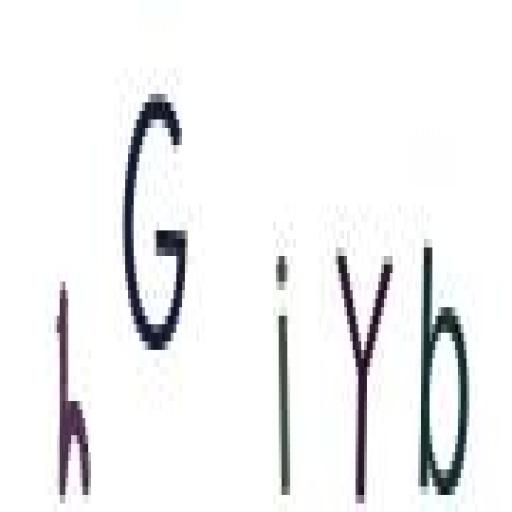G: (118, 78, 189, 378)
Y: (337, 232, 401, 512)
b: (418, 229, 477, 512)
h: (51, 266, 94, 511)
i: (266, 232, 301, 508)
